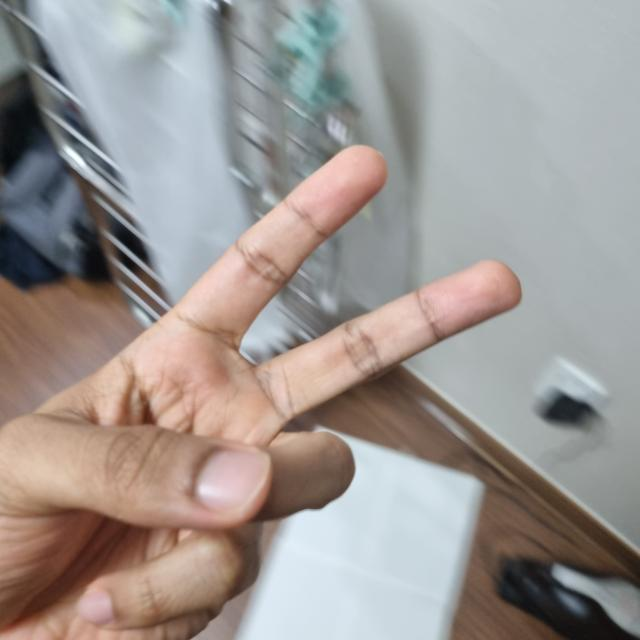Scissors: (0, 143, 520, 640)
